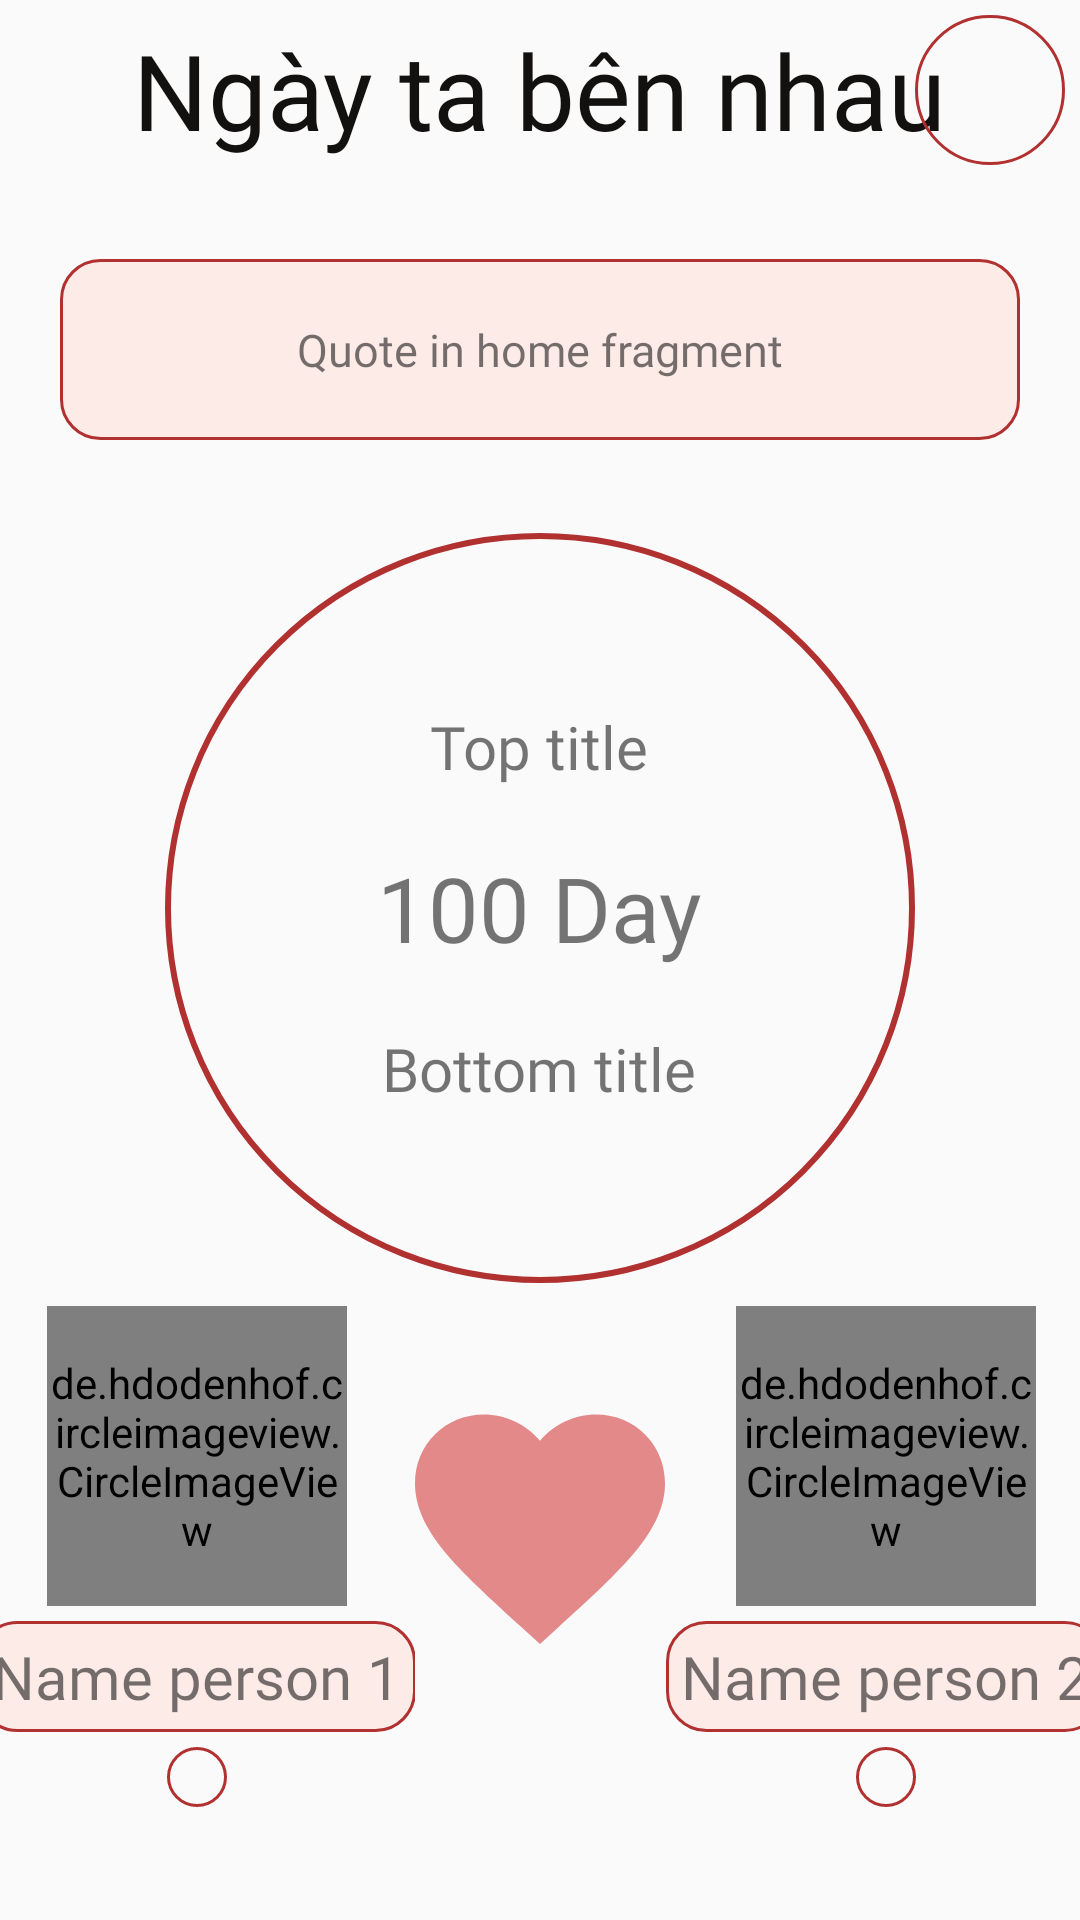

Where to tap for icons on this 1080 x 1920 app screen, as (x,y):
favorite: (540,1529)
